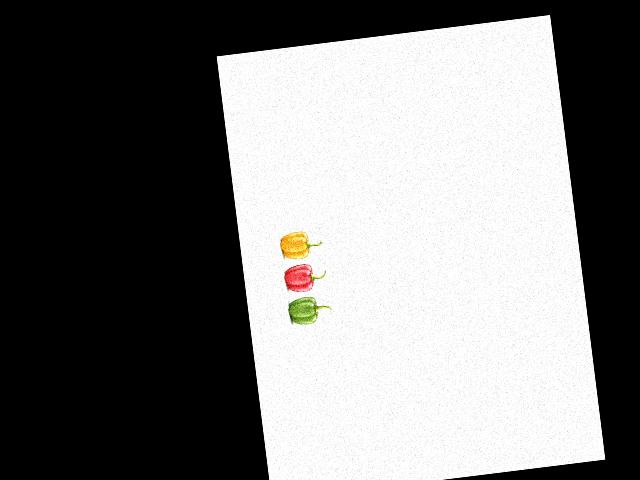bell_pepper: (285, 294, 333, 329)
